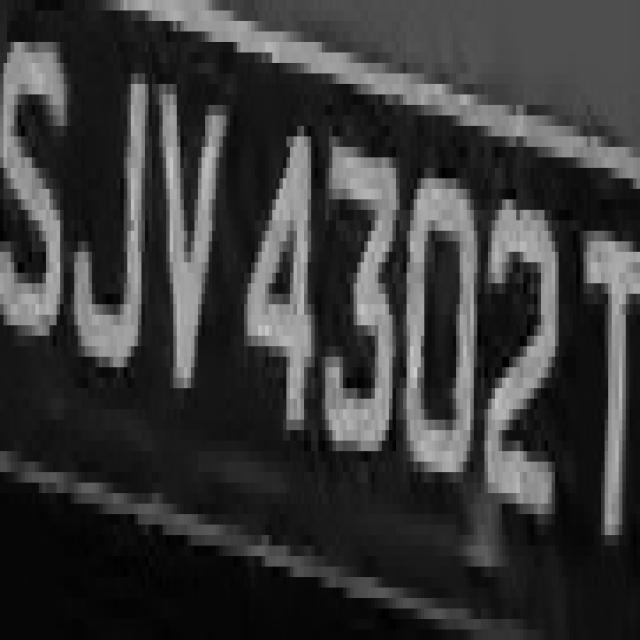0: (392, 158, 481, 524)
2: (474, 126, 555, 566)
3: (315, 126, 403, 504)
4: (234, 74, 318, 482)
J: (78, 11, 148, 409)
S: (7, 0, 78, 388)
T: (3, 2, 4, 10)
V: (152, 52, 233, 440)
